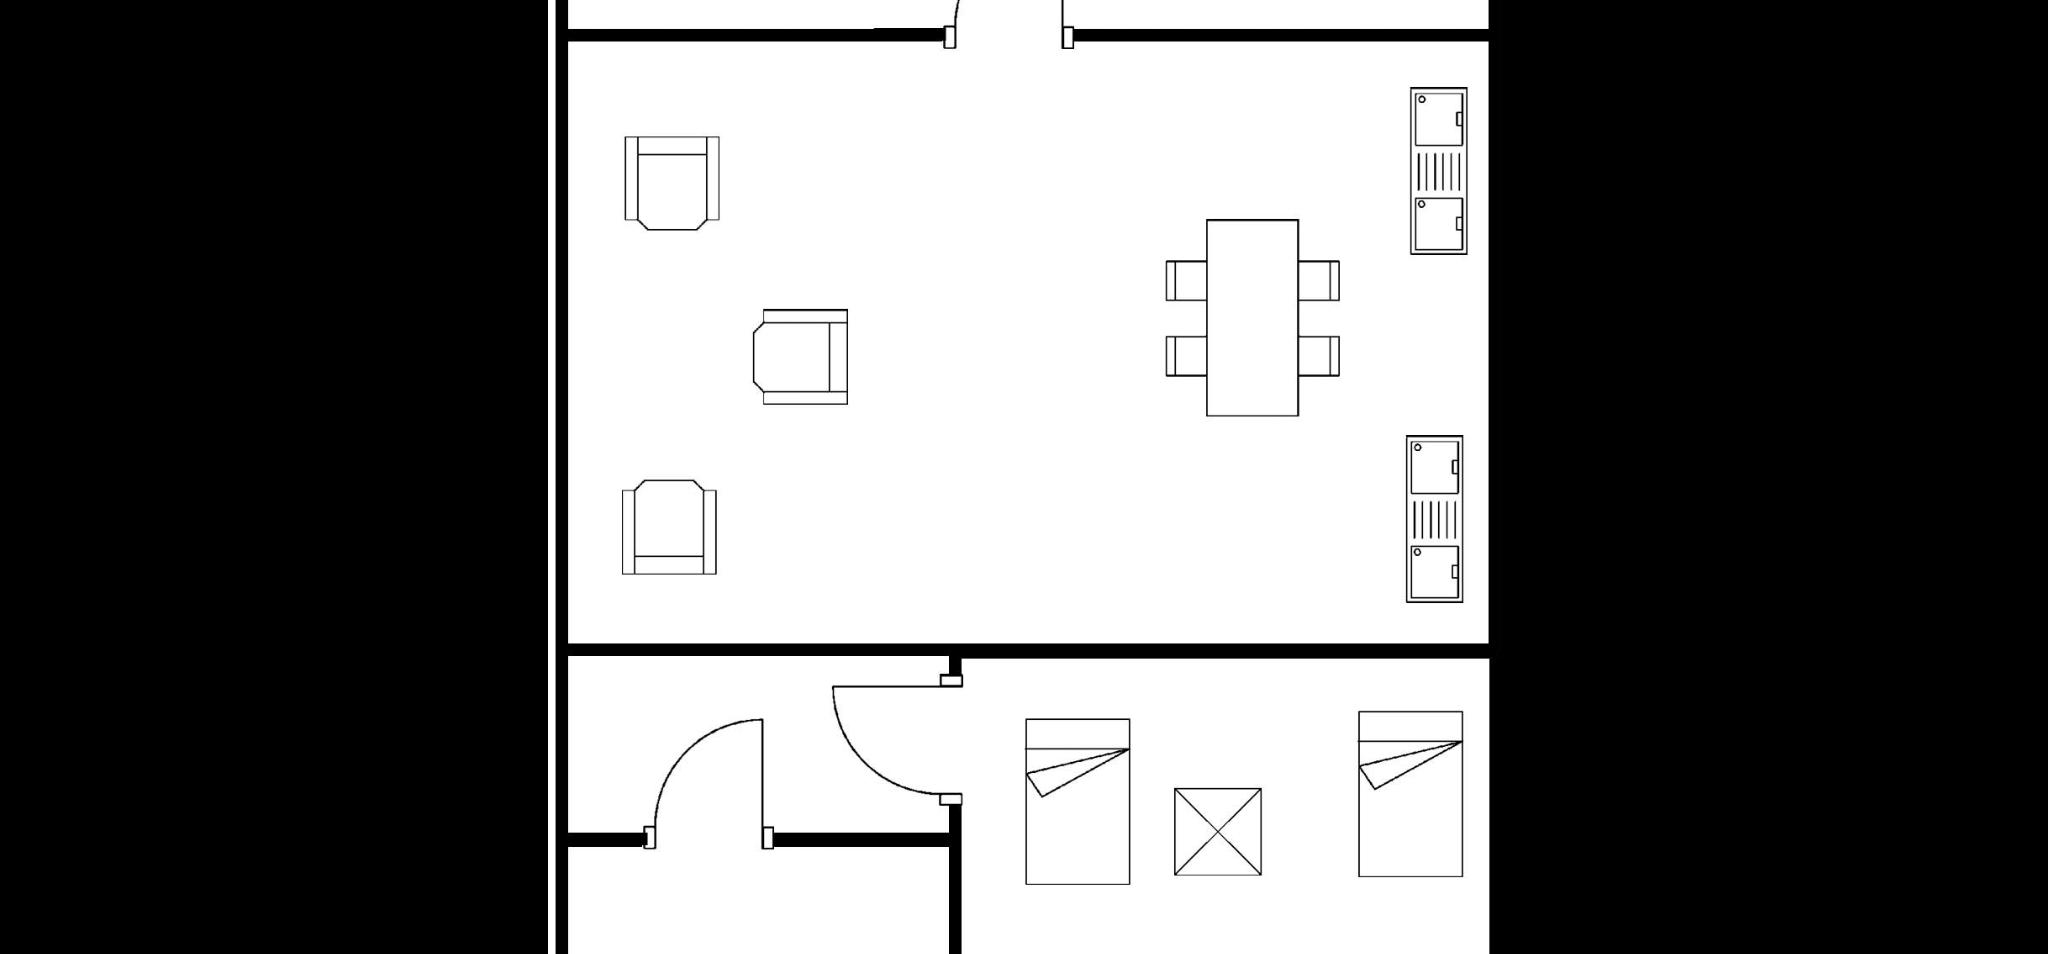sink: (1395, 73, 1481, 268), (1394, 419, 1472, 610)
